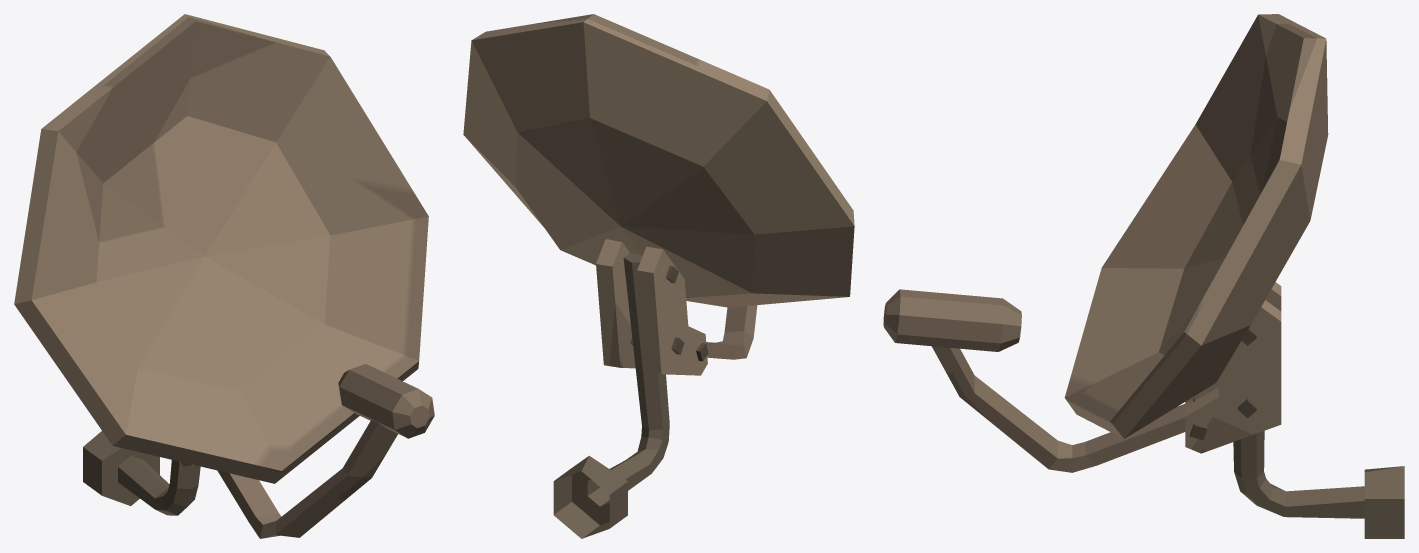
File: SM_Prop_Satellite_Dish_03.fbx
3 views of the same model, side by side, from view 1: azimuth 30°, elevation 25°; view 2: azimuth 150°, elevation 25°; view 3: azimuth 270°, elevation 25° (orthographic). The views are drawn at different scales.
Parts seen in each view (by area): view 1: SM_Prop_Satellite_Dish_03; view 2: SM_Prop_Satellite_Dish_03; view 3: SM_Prop_Satellite_Dish_03.
Boxes of the visible parts, x1=… form: SM_Prop_Satellite_Dish_03: x1=14, y1=14, x2=434, y2=538; SM_Prop_Satellite_Dish_03: x1=463, y1=14, x2=854, y2=538; SM_Prop_Satellite_Dish_03: x1=883, y1=14, x2=1404, y2=538.
Size of the model in its own units: 123 by 143 by 130.
